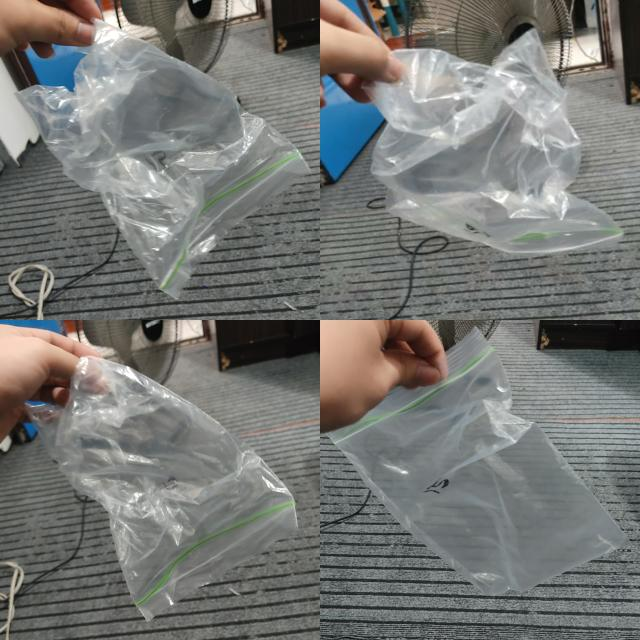Single-layer Plastic: (20, 21, 309, 298), (330, 330, 629, 594), (28, 356, 298, 620), (369, 30, 622, 253)
